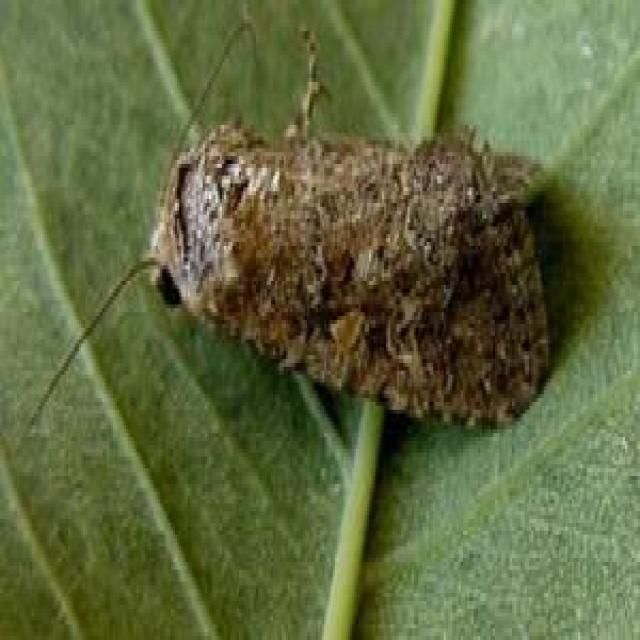BeetArmyWorm-Adult-: (122, 58, 573, 464)
